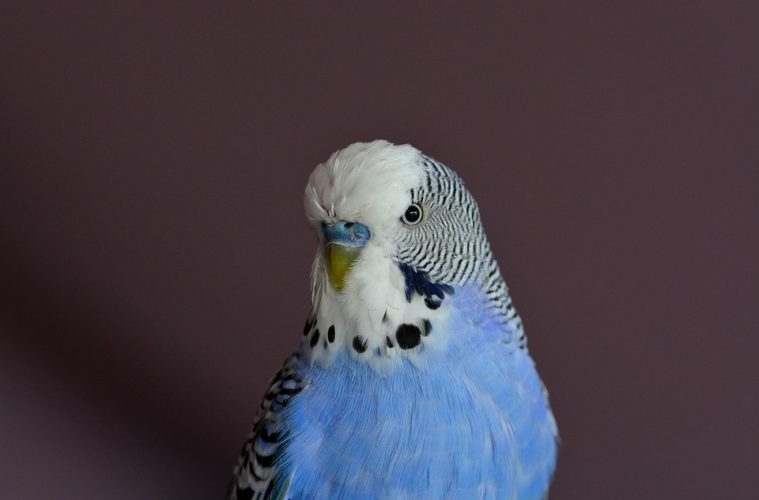budgie: (225, 130, 561, 500)
